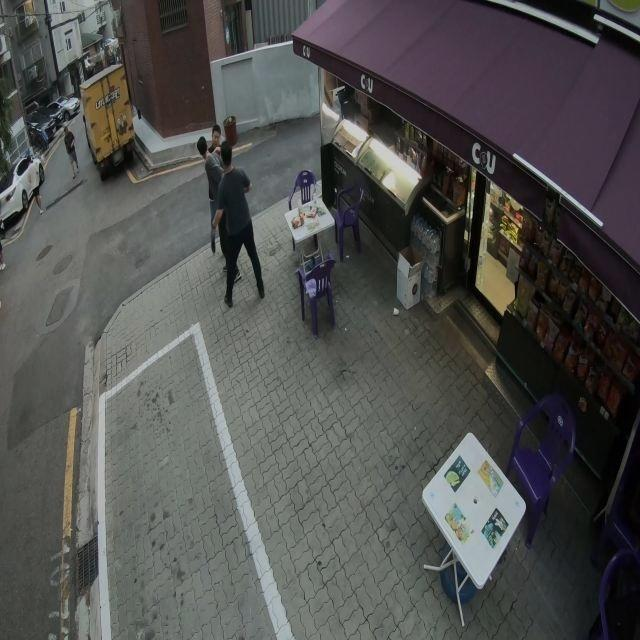fight: (197, 123, 241, 254)
non-fight: (212, 139, 265, 307), (62, 123, 80, 179)
